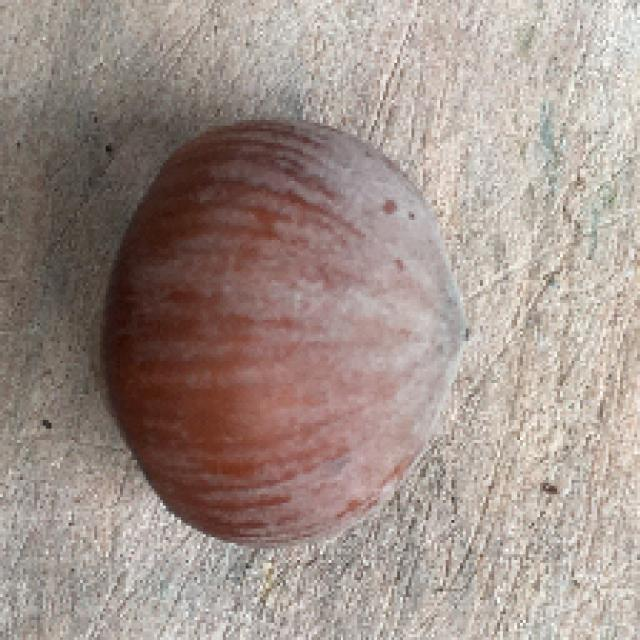qualityHazelnut: (92, 112, 474, 552)
